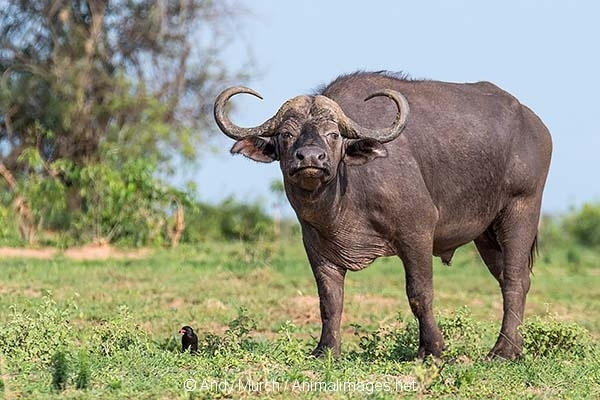buffalo: (213, 70, 554, 364)
